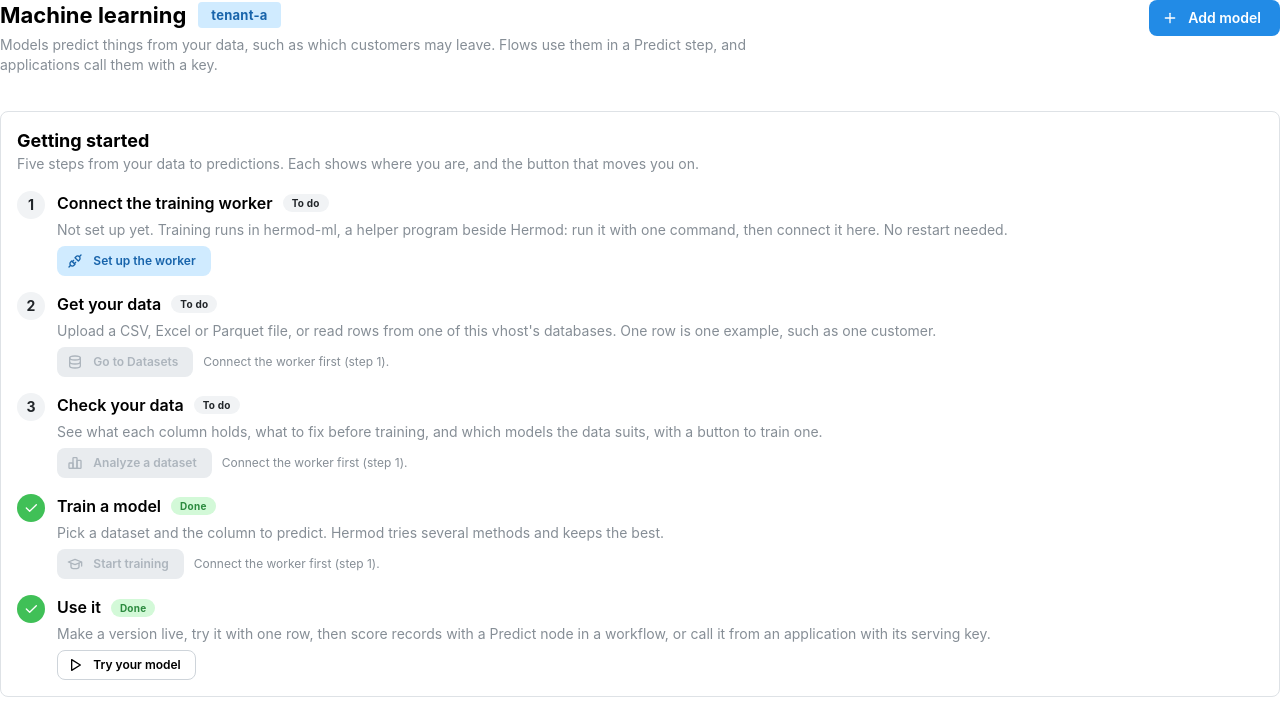
Test: Training on the Models page › says how to turn training on when no worker is configured
Click the button "Add model". click: click(1215, 18)
box: [1149, 0, 1279, 36]
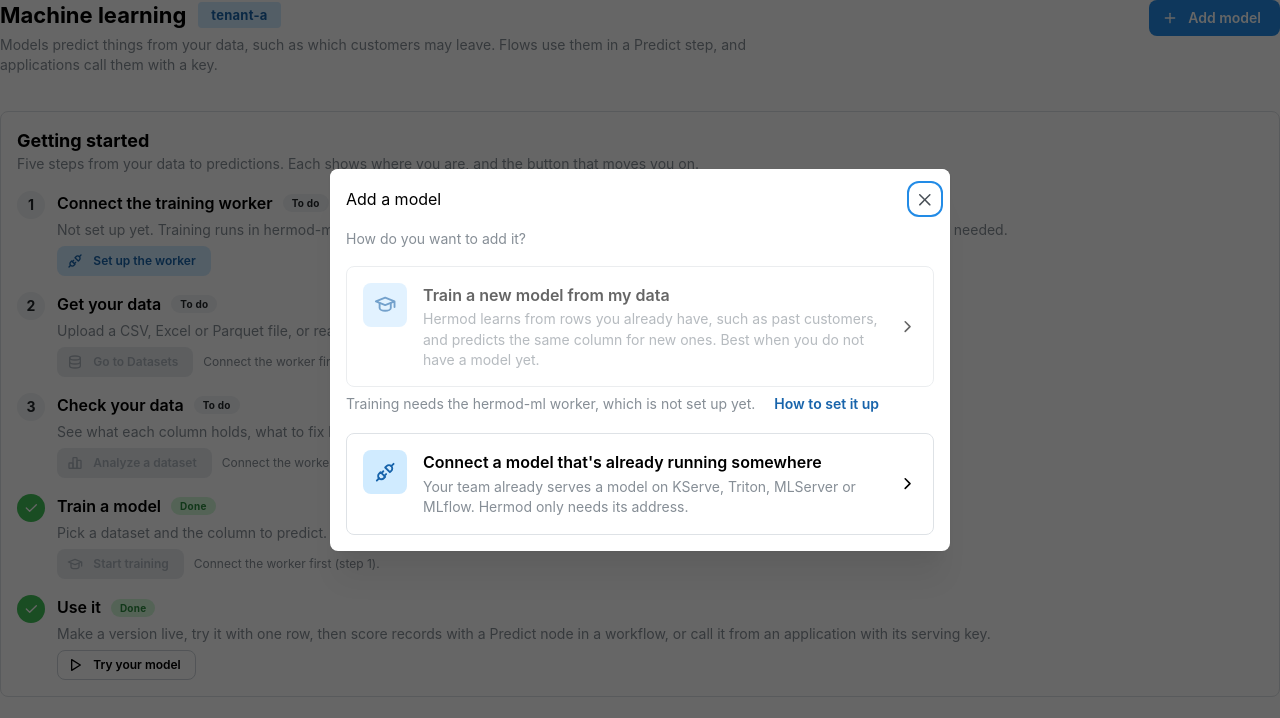
Check: the button "Train a new model" is disabled, box [346, 266, 934, 387]
